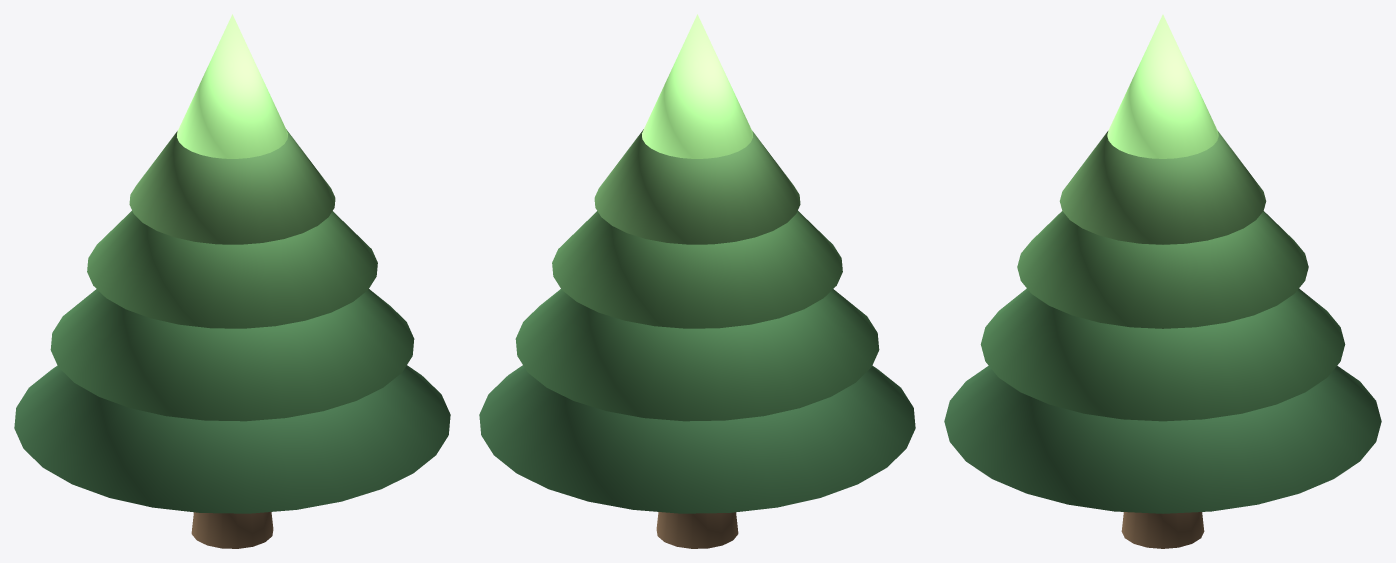
File: tree-low-poly-shaded.glb
The picture shows the model from 3 angles, left to right: view 1: azimuth 30°, elevation 25°; view 2: azimuth 150°, elevation 25°; view 3: azimuth 270°, elevation 25°; orthographic projection.
Visible parts, largest first — view 1: Tree_Canopy0, Tree_Canopy1, Tree_Canopy2, Tree_Canopy3, Tree_Canopy4, Tree_Trunk; view 2: Tree_Canopy0, Tree_Canopy1, Tree_Canopy2, Tree_Canopy3, Tree_Canopy4, Tree_Trunk; view 3: Tree_Canopy0, Tree_Canopy1, Tree_Canopy2, Tree_Canopy3, Tree_Canopy4, Tree_Trunk.
Boxes of the visible parts, x1,y1,x2,y2 form: Tree_Canopy0: (14,365,450,513); Tree_Canopy1: (50,289,414,421); Tree_Canopy2: (87,210,377,328); Tree_Canopy3: (129,129,335,244); Tree_Canopy4: (177,14,287,158); Tree_Trunk: (191,512,273,548); Tree_Canopy0: (479,365,915,513); Tree_Canopy1: (515,289,879,421); Tree_Canopy2: (552,210,842,328); Tree_Canopy3: (594,129,800,244); Tree_Canopy4: (642,14,752,158); Tree_Trunk: (656,512,738,548); Tree_Canopy0: (944,365,1381,513); Tree_Canopy1: (980,288,1345,421); Tree_Canopy2: (1017,211,1308,328); Tree_Canopy3: (1059,131,1266,244); Tree_Canopy4: (1107,14,1218,158); Tree_Trunk: (1121,512,1204,548).
Bounding box in the file's own units: 3.6 × 4.7 × 3.6.
